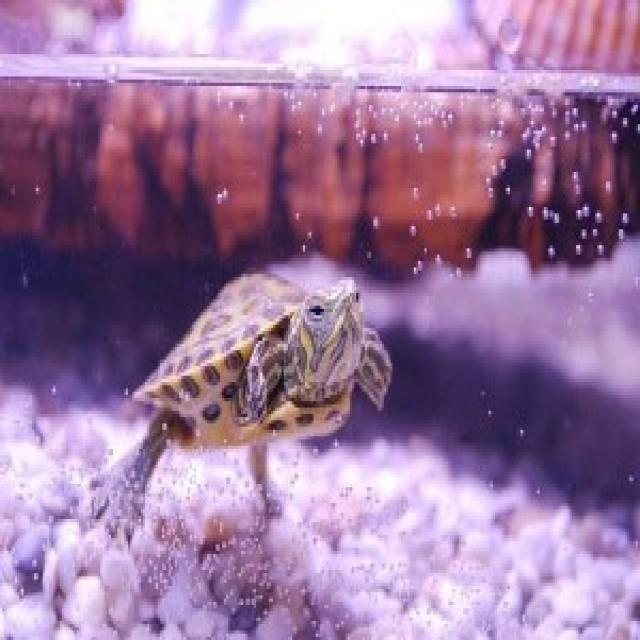Sea turtle: (98, 188, 404, 548)
